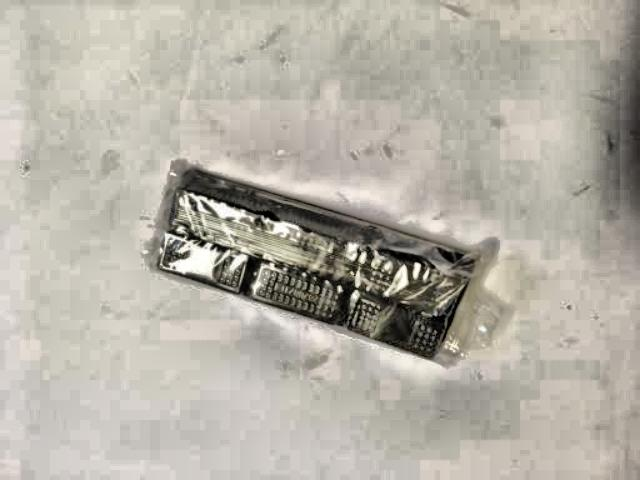Plastic: (115, 166, 527, 376)
